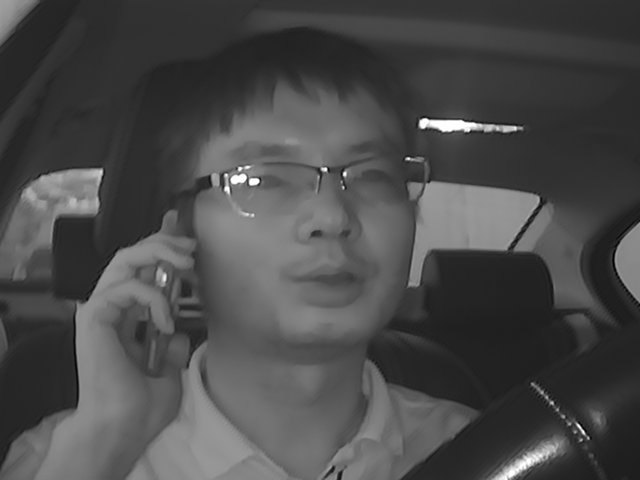hand: (66, 232, 203, 428)
